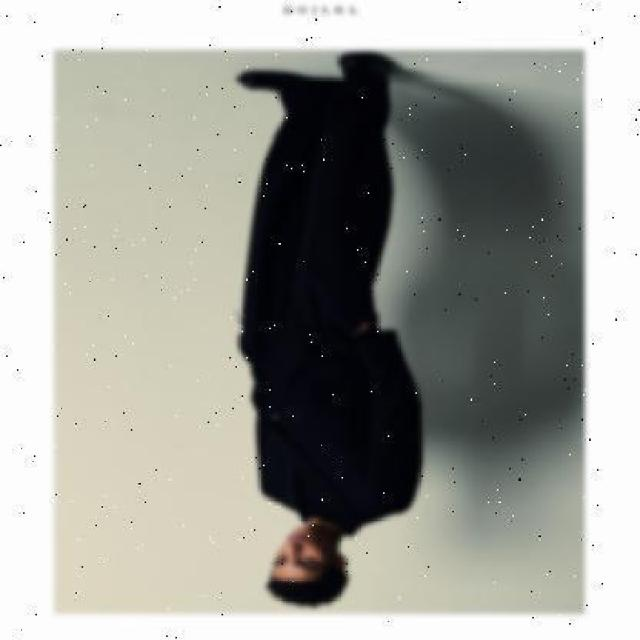person: (237, 53, 421, 609)
